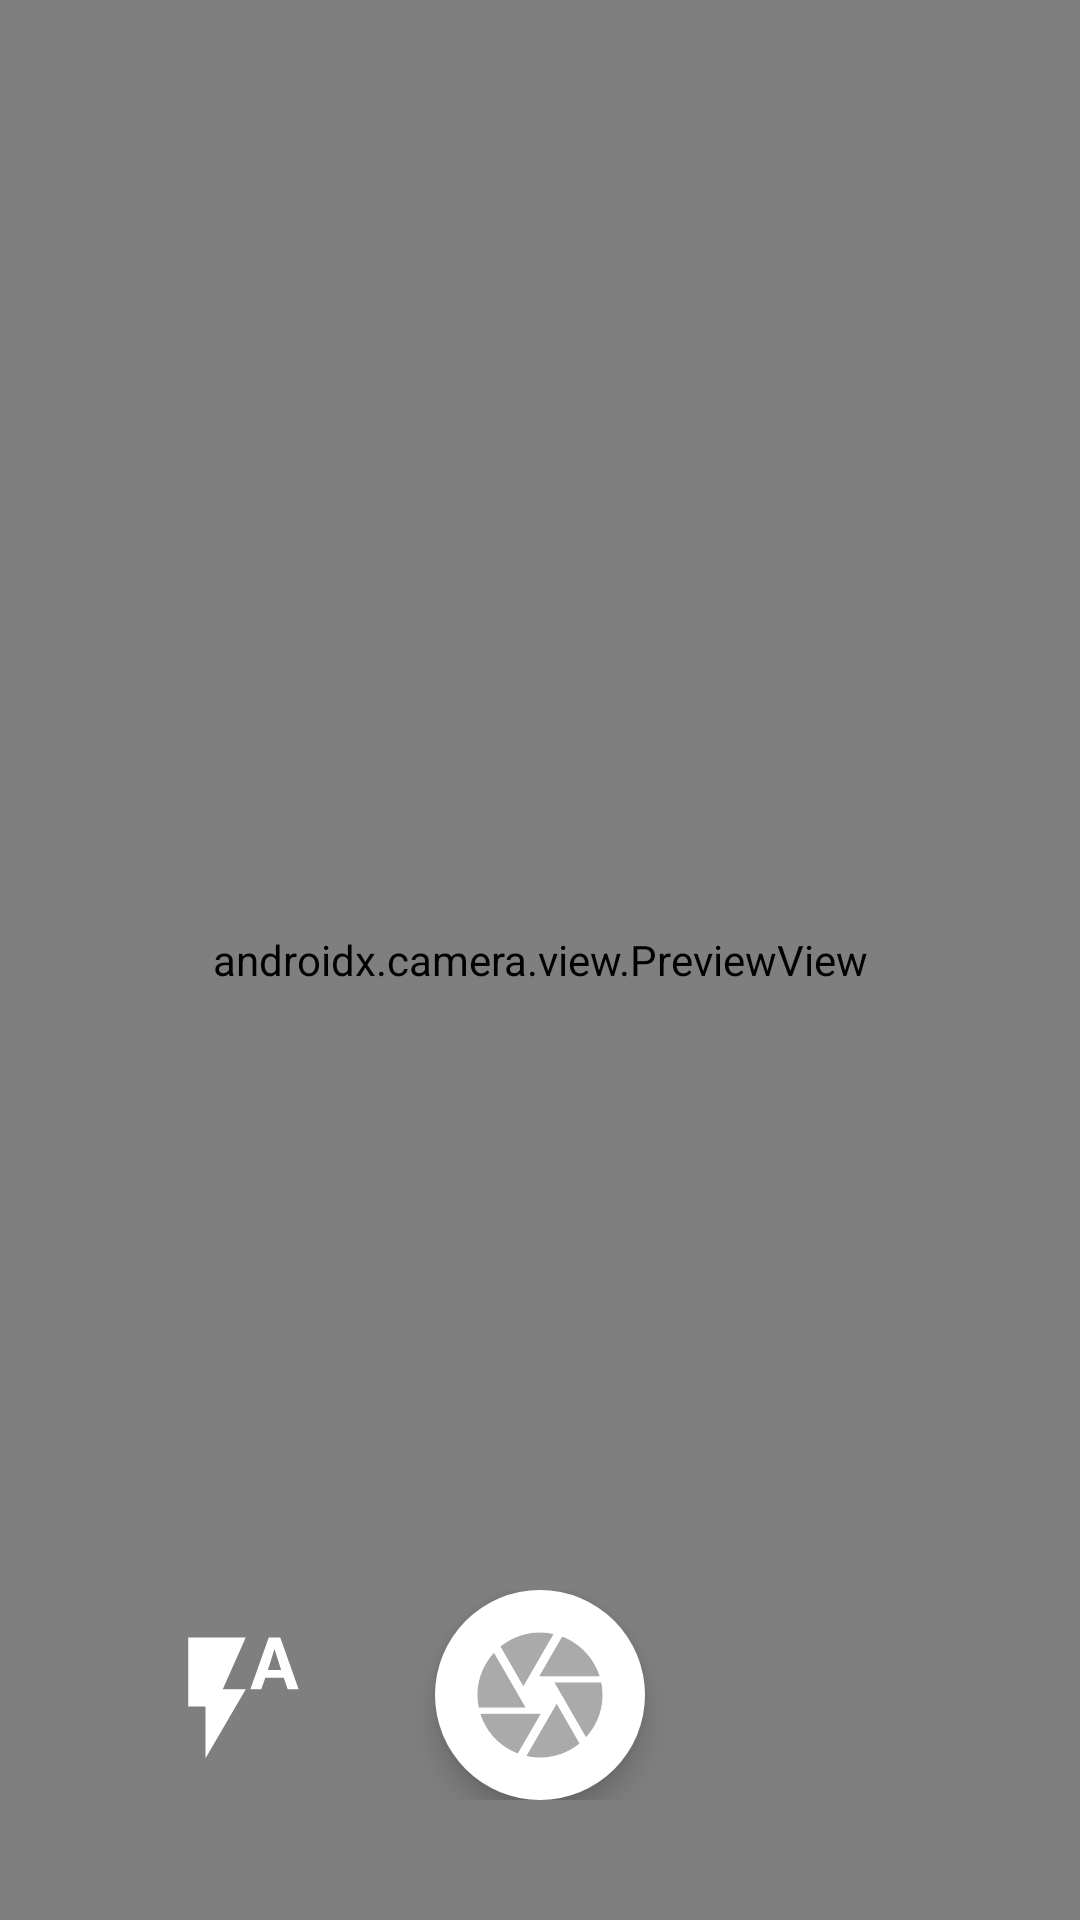

Where to tap for icons on this 1080 × 1920 app screen, as (x,y):
Capture Image: (540,1695)
Flash Mode: (243,1697)
